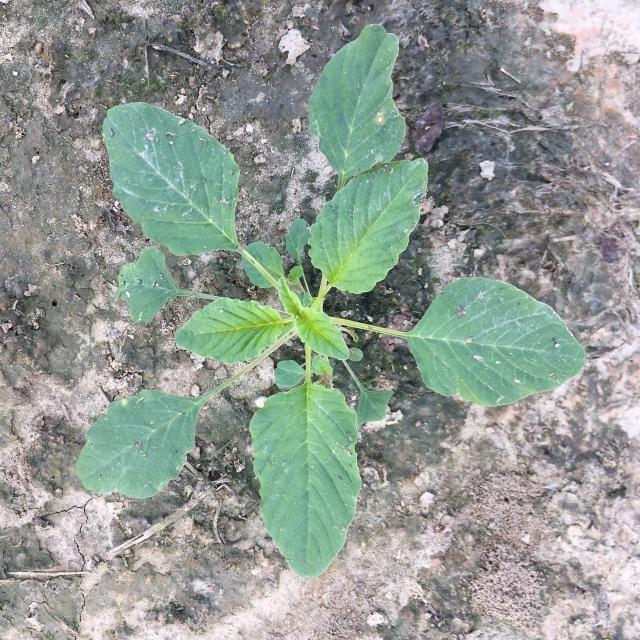PalmerAmaranth: (76, 24, 587, 579)
